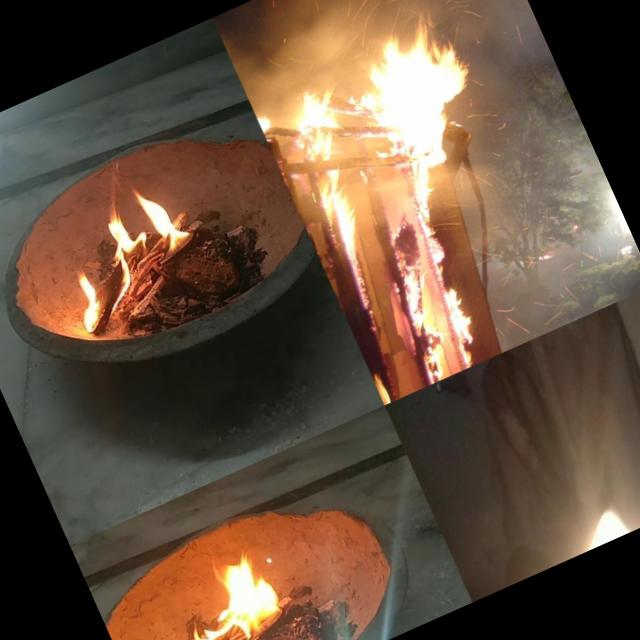fire: (264, 4, 498, 227), (38, 172, 222, 346), (370, 180, 511, 378), (111, 533, 309, 640), (308, 181, 410, 324), (528, 477, 640, 570), (250, 94, 288, 142), (366, 356, 400, 406)
smoke: (437, 117, 640, 348), (426, 0, 579, 152), (222, 0, 430, 86)
